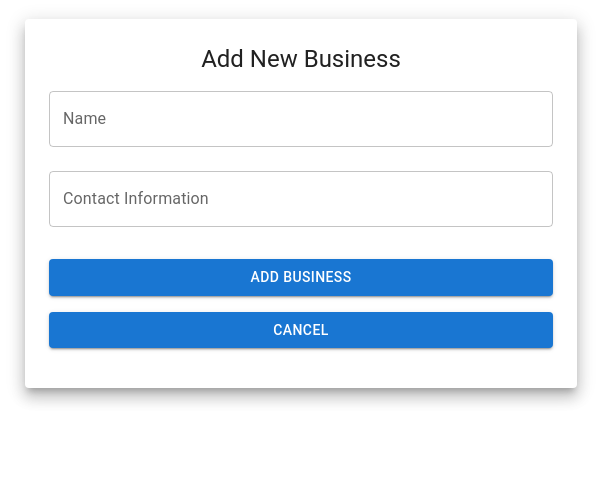
Test: shows error message on business creation failure
Type "My New Business" into the field labelled "Name" at (301, 119), box [49,91,553,147]
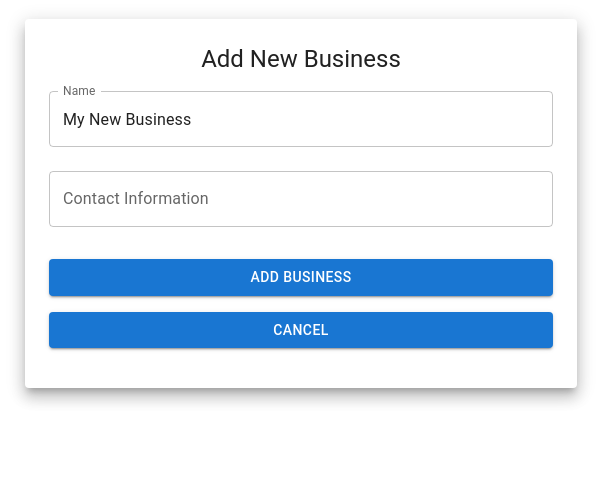
Type "contact@example.com" into the field labelled "Contact Information" at (301, 199), box [49,171,553,227]
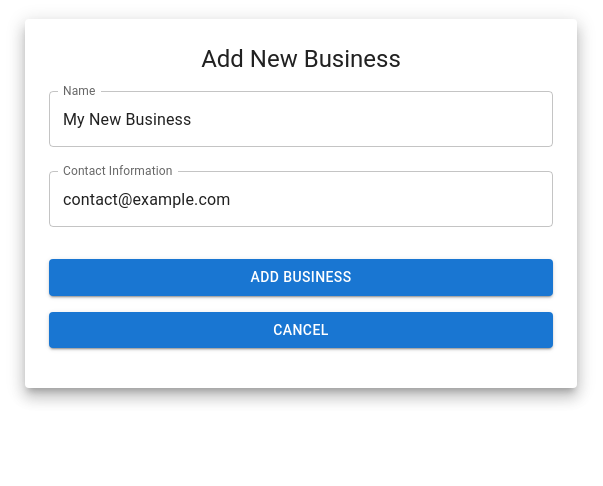
Submit the form from the button "Add Business", box [49,259,553,296]
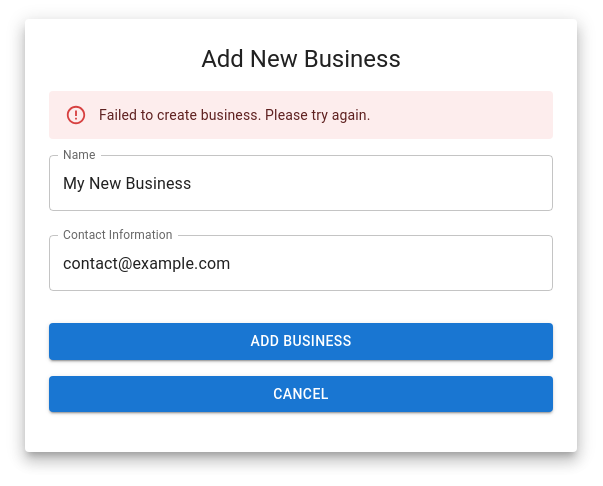
Check: the text "Failed to create business. Please try again." is shown, box [99,107,370,123]
